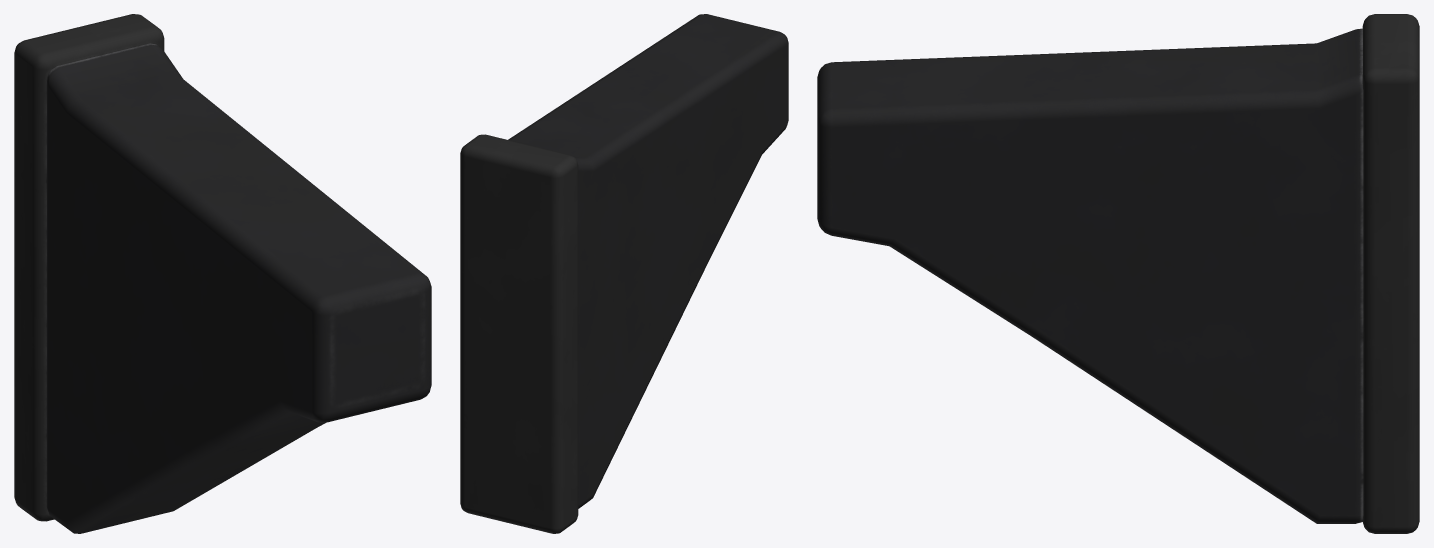
File: stock_ctr.glb
3 views of the same model, side by side, from view 1: azimuth 30°, elevation 25°; view 2: azimuth 150°, elevation 25°; view 3: azimuth 270°, elevation 25° (orthographic). The views are drawn at different scales.
Visible parts, largest first — view 1: body; view 2: body; view 3: body.
Part boxes in pixels (box(x1,y1,x2,y2)): body: box(14, 14, 431, 533); body: box(460, 14, 788, 533); body: box(817, 14, 1419, 533).
Bounding box in the file's own units: 0.042 × 0.144 × 0.169.
1 material, 1 textured.
